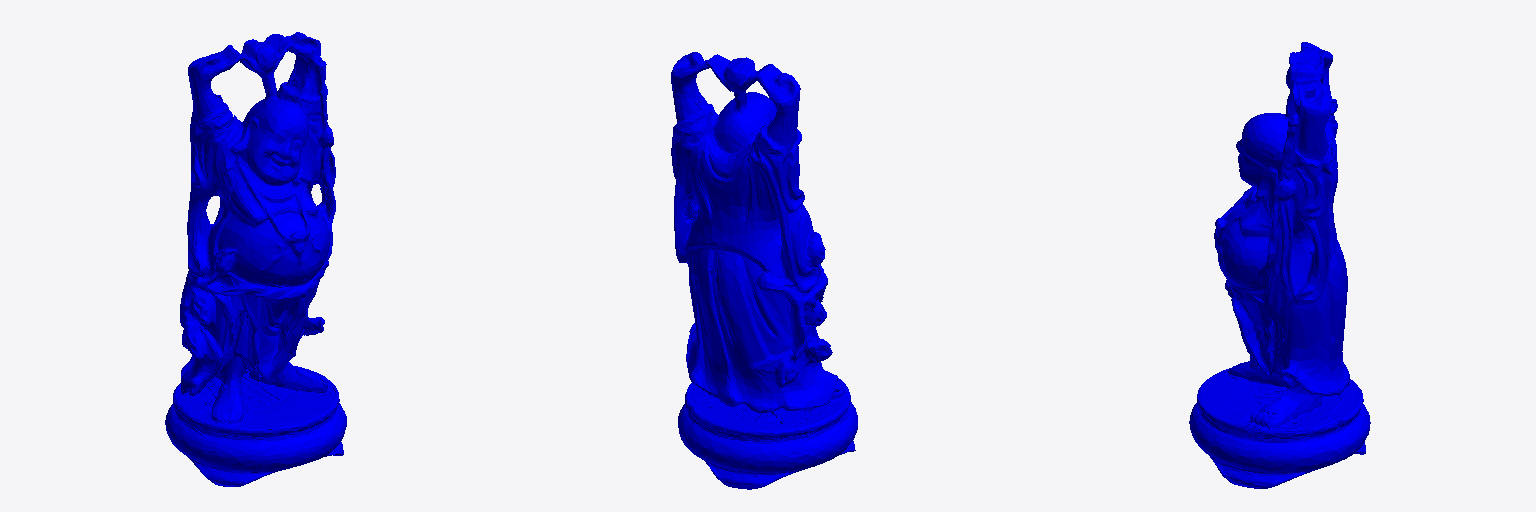
File: happy-buddha.obj
3 views of the same model, side by side, from view 1: azimuth 30°, elevation 25°; view 2: azimuth 150°, elevation 25°; view 3: azimuth 270°, elevation 25° (orthographic).
Visible parts, largest first — view 1: buddha; view 2: buddha; view 3: buddha.
Part boxes in pixels (x1,y1,x2,y2): buddha: (165,32,346,486); buddha: (671,52,857,489); buddha: (1189,42,1370,488).
Bounding box in the file's own units: 0.3928 × 0.9553 × 0.3932.